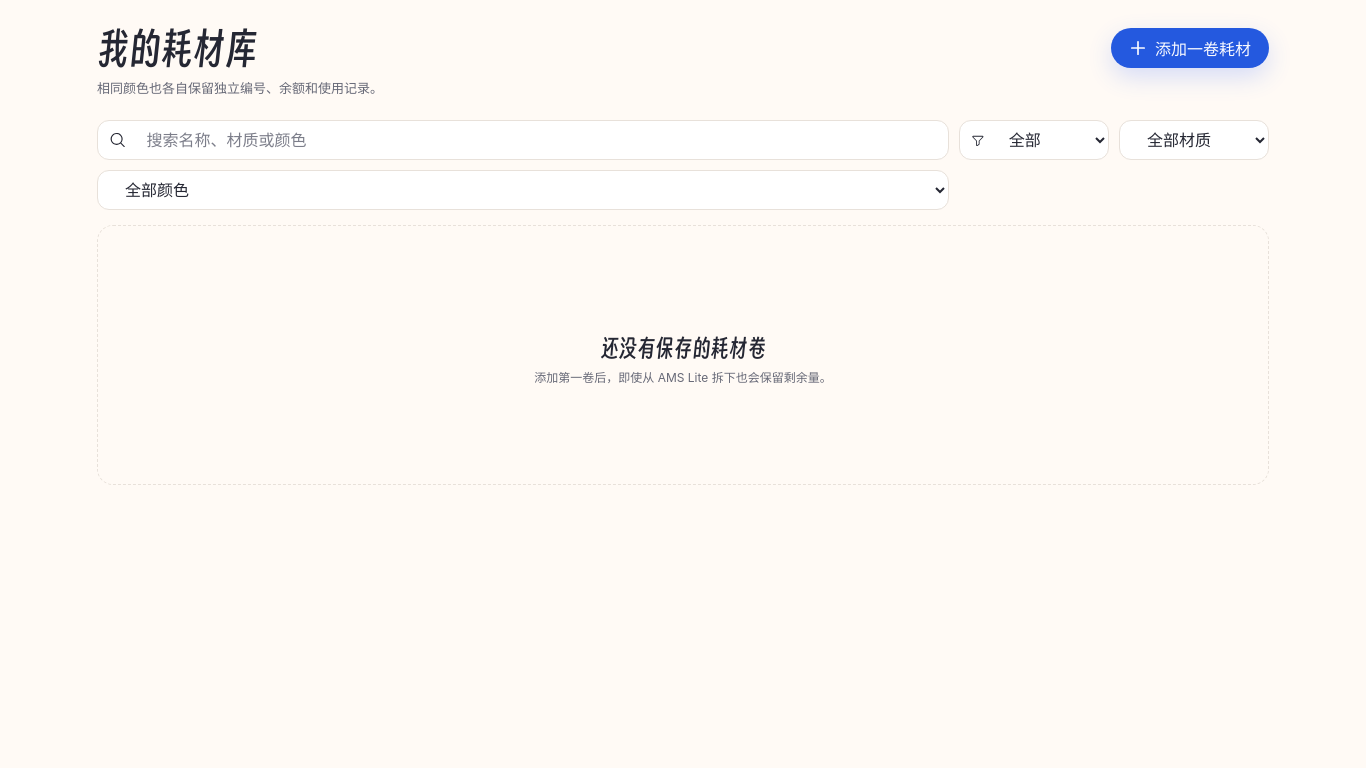
Scenario: opens the catalog dialog instead of the inline color form
This screenshot has width=1366, height=768.
Step 1. Click the button "添加一卷耗材" → (1190, 48), box [1111, 28, 1269, 68]
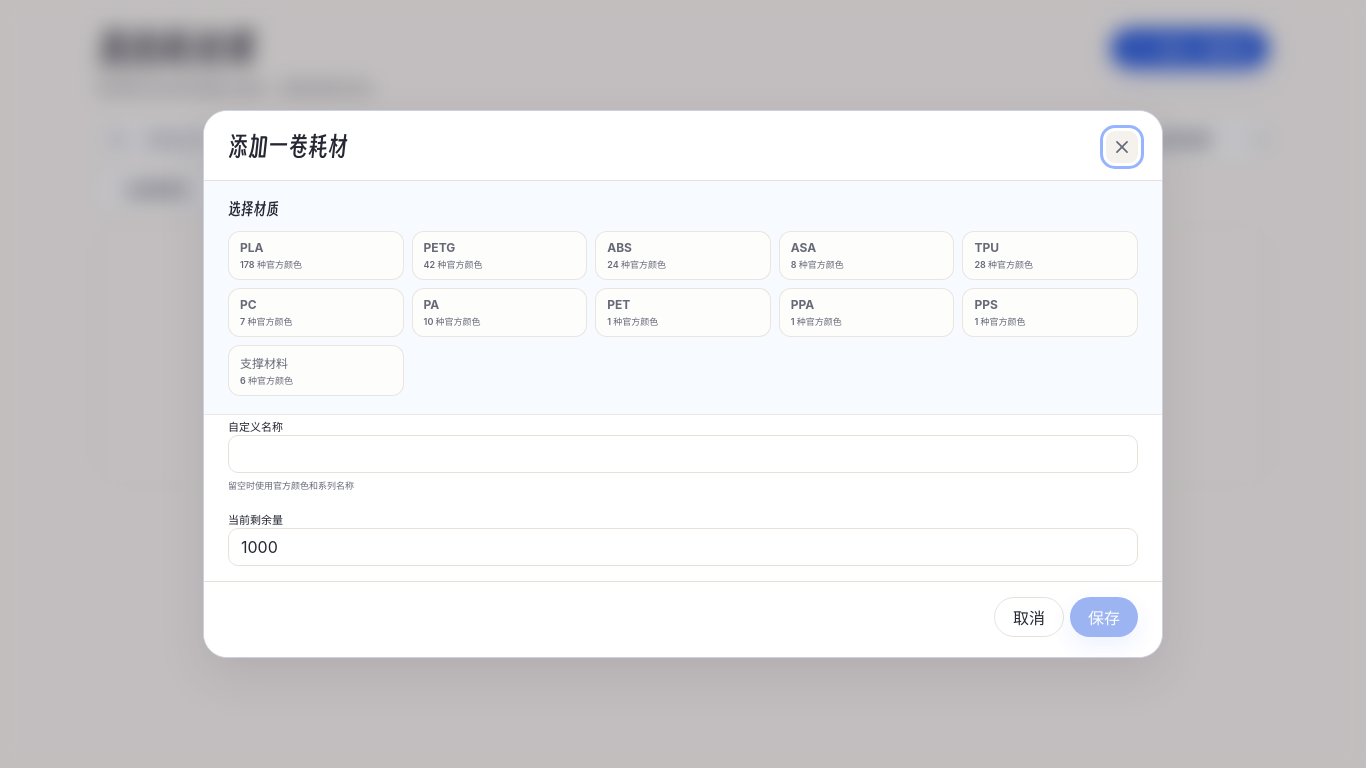
Expected: the dialog "添加一卷耗材" is shown, [203, 110, 1163, 658]
